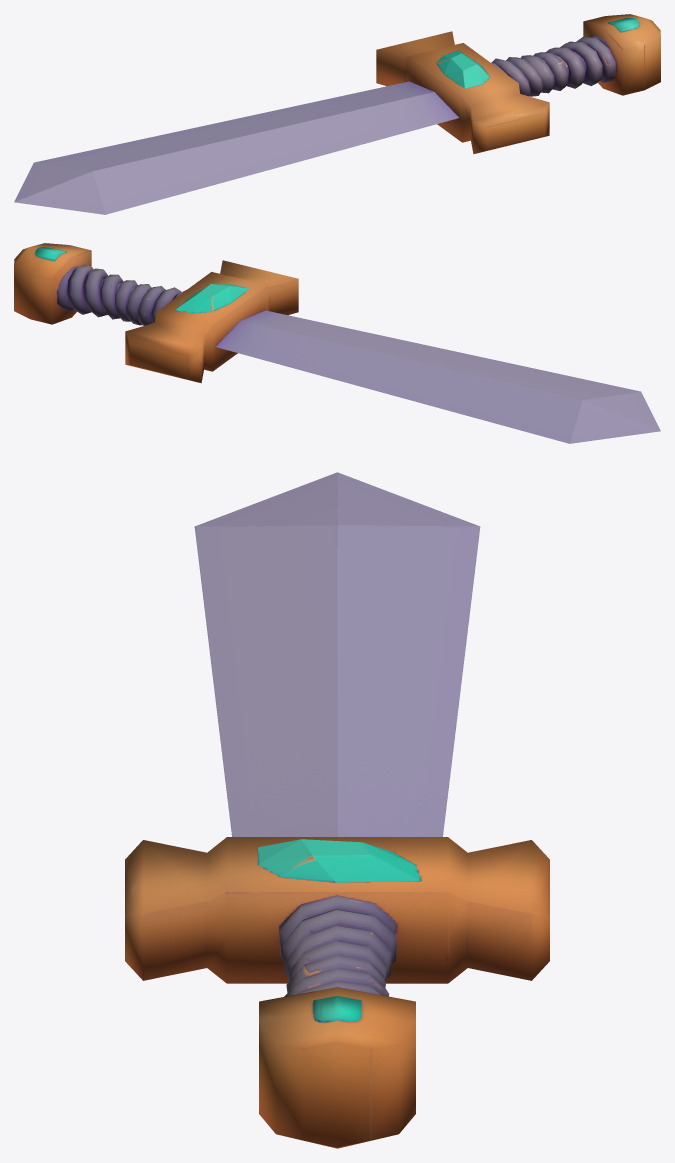
The model's file is Sword.fbx.
3 views of the same model, one above another, from view 1: azimuth 30°, elevation 25°; view 2: azimuth 150°, elevation 25°; view 3: azimuth 270°, elevation 25° (orthographic). The views are drawn at different scales.
Visible parts, largest first — view 1: Sword; view 2: Sword; view 3: Sword.
Boxes of the visible parts, x1=… form: Sword: x1=14, y1=14, x2=660, y2=214; Sword: x1=14, y1=243, x2=660, y2=443; Sword: x1=125, y1=472, x2=549, y2=1148.
Bounding box in the file's own units: 0.7005 × 0.0655 × 0.2022.
